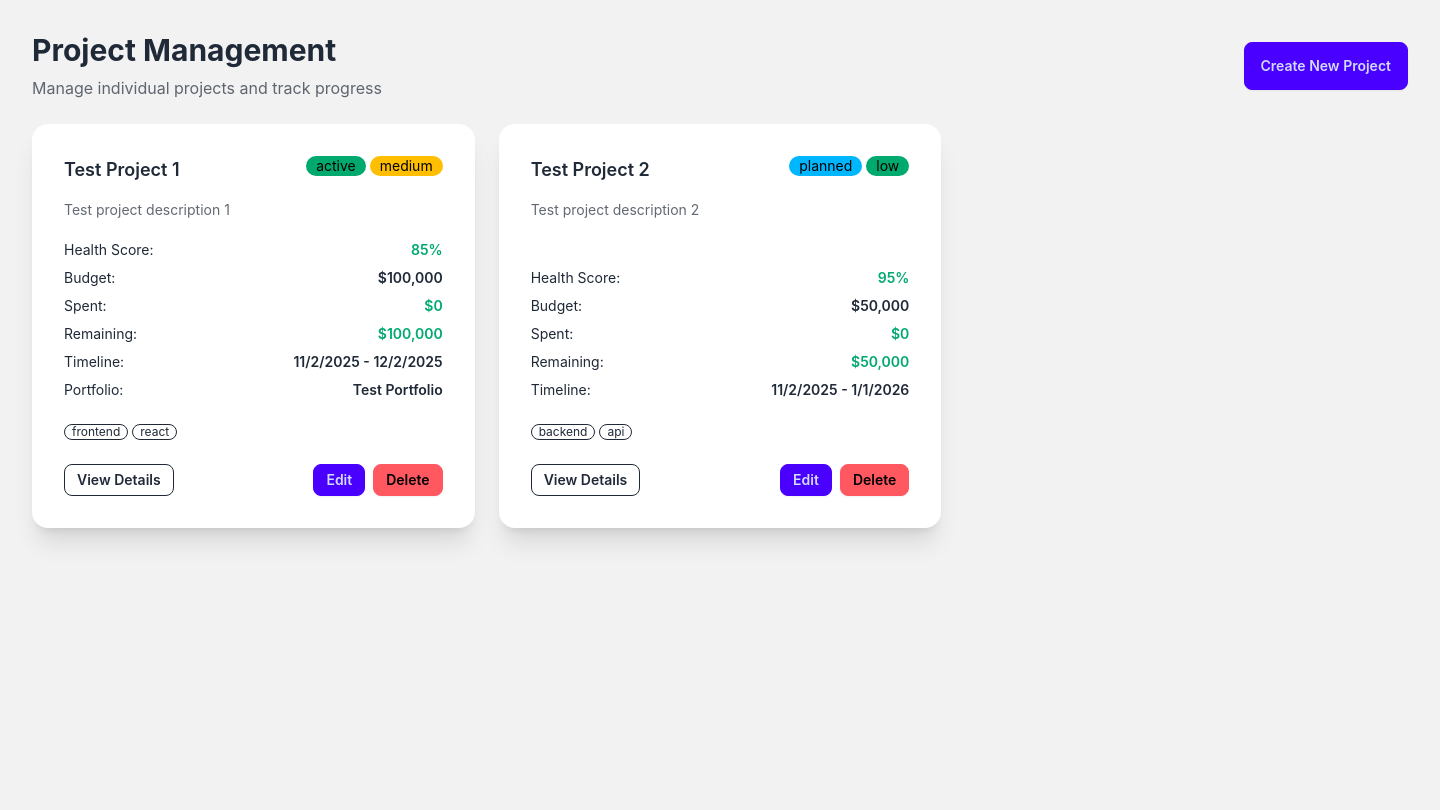
Test case: ProjectList › opens create project modal when create button is clicked
Use getAllByText and select the button (first element)
Click the button "Create New Project" at (1326, 66), box x1=1244 y1=42 x2=1408 y2=90
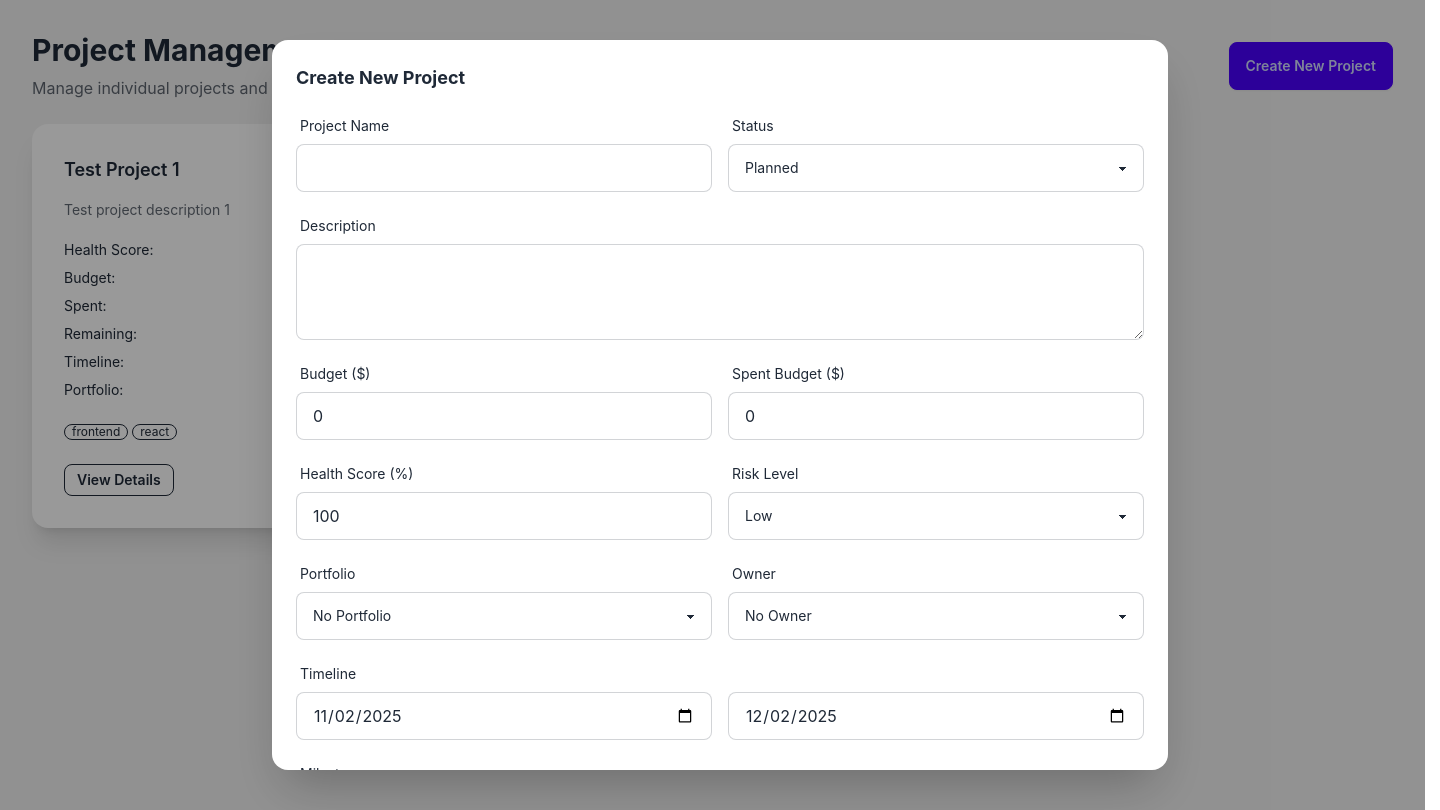
Check: the heading "Create New Project" is shown, box x1=296 y1=67 x2=465 y2=88
Check: the field labelled "Project Name" is shown, box x1=296 y1=144 x2=712 y2=192
Check: the text box labelled "Description" is shown, box x1=296 y1=244 x2=1144 y2=340
